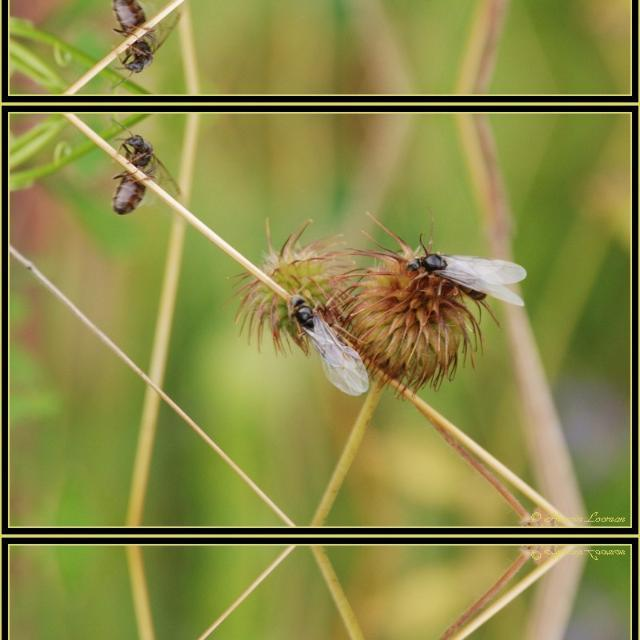Lasius: (399, 218, 538, 320), (280, 273, 370, 391), (121, 127, 185, 219), (121, 0, 185, 78)
